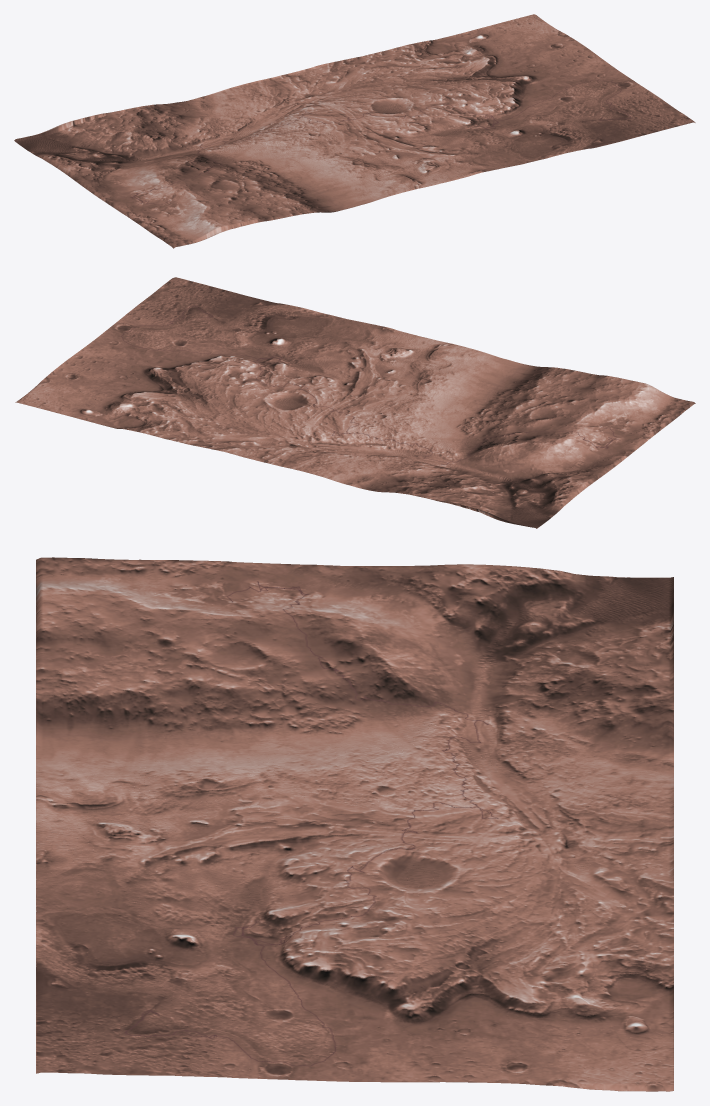
File: world.glb
3 renders of one model, top to bottom at view 1: azimuth 30°, elevation 25°; view 2: azimuth 150°, elevation 25°; view 3: azimuth 270°, elevation 25°, orthographic. The views are drawn at different scales.
Parts seen in each view (by area): view 1: Plane.001; view 2: Plane.001; view 3: Plane.001.
Boxes of the visible parts, x1=… form: Plane.001: x1=14, y1=14, x2=695, y2=248; Plane.001: x1=15, y1=277, x2=695, y2=528; Plane.001: x1=36, y1=557, x2=673, y2=1091.
Size of the model in its own units: 13215 by 540 by 6988.
1 material, 1 textured.
